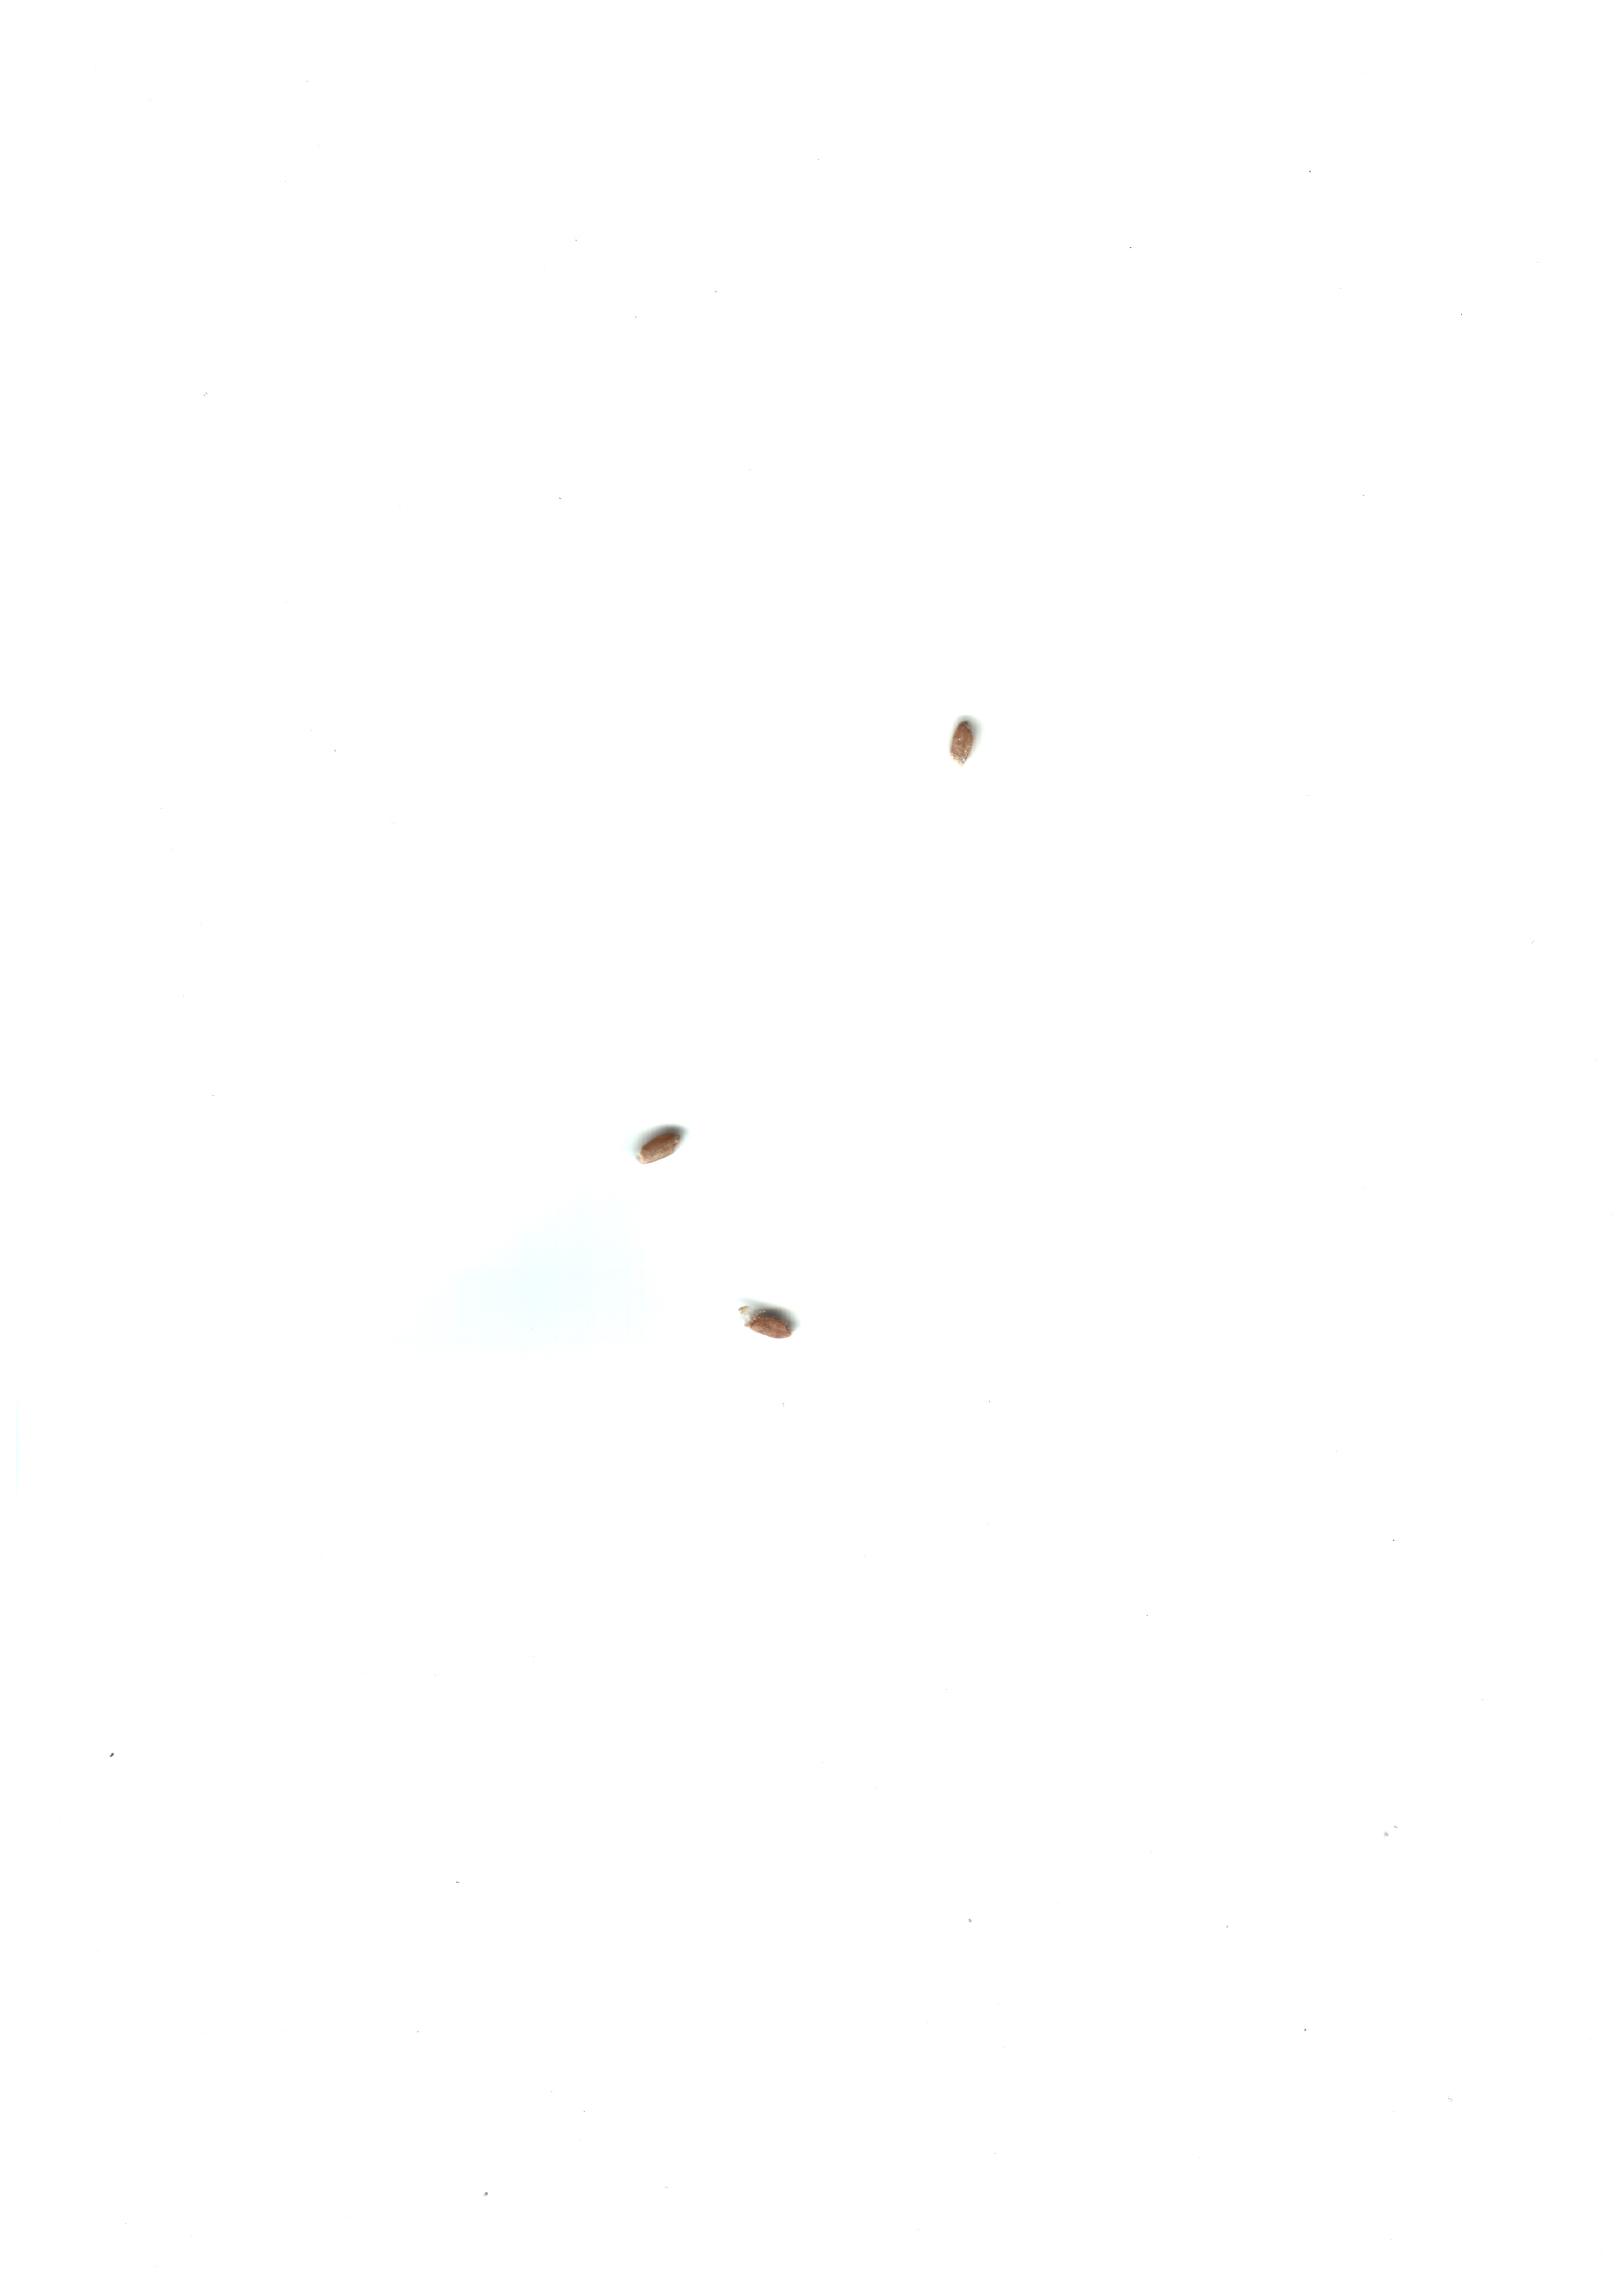grains_3mm: (725, 1272, 820, 1358), (619, 1104, 713, 1190), (920, 696, 1013, 782)
